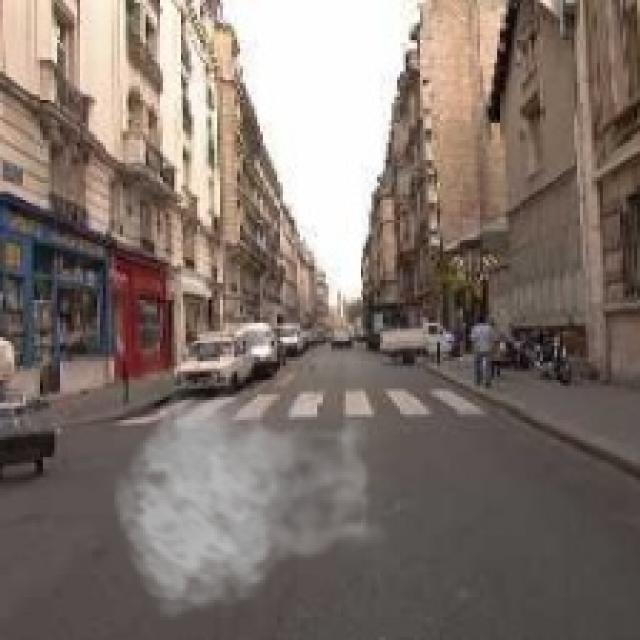smoke: (111, 374, 392, 620)
